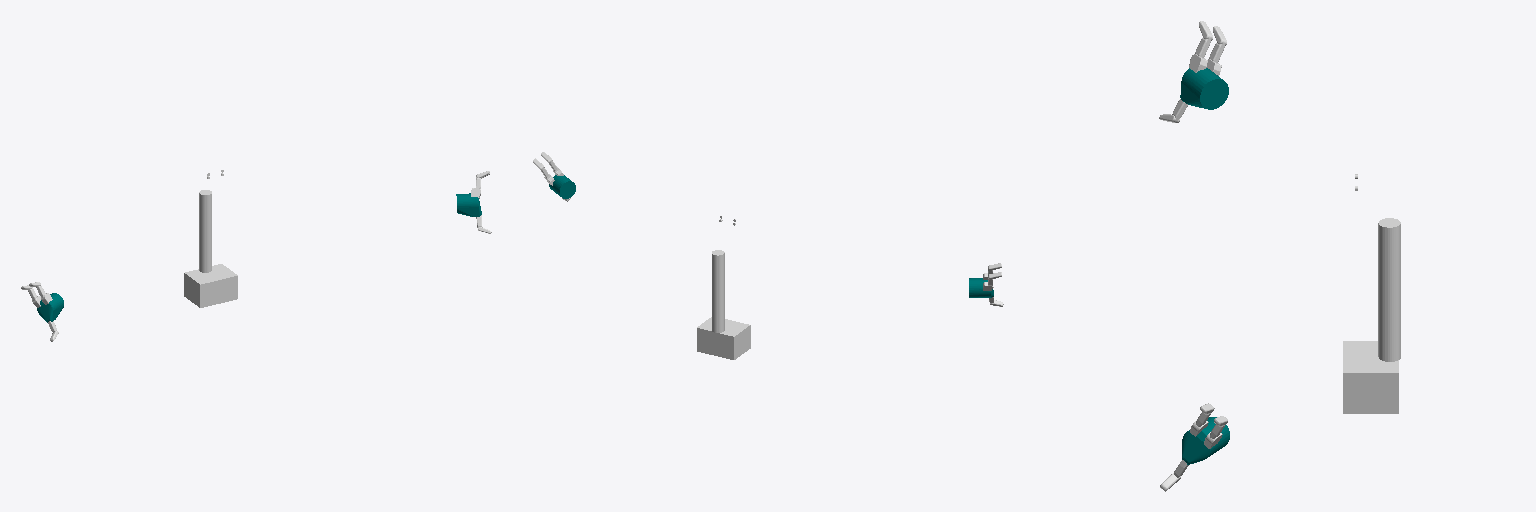
--- What the picture shows (computed from the rendered views, not written in the file) ---
The picture shows the robot from 3 angles, left to right: view 1: azimuth 30°, elevation 25°; view 2: azimuth 150°, elevation 25°; view 3: azimuth 270°, elevation 25°; orthographic projection.
Model apollo_robot with 62 links and 61 joints (37 revolute, 24 fixed), rooted at ORIG, posed joints at zero except 8 at the middle of their limits (L_SAA = -1.6, L_MF2 = 1.13, L_LF2 = 1.13, L_RF2 = 1.13, R_SAA = -1.6, R_MF2 = 1.13, +2 more).
Visible links, largest first — view 1: B_MOTORS, B_CERVICALS; view 2: B_MOTORS, B_CERVICALS; view 3: B_MOTORS, B_CERVICALS, R_ARM_PALM, L_ARM_PALM.
Link boxes in pixels (x1,y1,x2,y2): B_MOTORS: (184,264,237,307); B_CERVICALS: (199,190,211,272); B_MOTORS: (697,317,750,359); B_CERVICALS: (712,250,724,332); B_MOTORS: (1343,341,1398,413); B_CERVICALS: (1378,218,1400,361); R_ARM_PALM: (1180,68,1228,109); L_ARM_PALM: (1182,417,1229,464).
Bounding box of the posed robot: 2.49 × 0.6431 × 0.6563 m (x, y, z).
Meshes: 15 distinct files referenced, 18 mesh visuals loaded (4 binary STL); not drawn: 20 (reference not matched to a file when rendering).

robot.urdf — apollo_robot:
<?xml version="1.0" ?>
<!-- =================================================================================== -->
<!-- |    This document was autogenerated by xacro from ApolloRobot.urdf.xacro         | -->
<!-- |    EDITING THIS FILE BY HAND IS NOT RECOMMENDED                                 | -->
<!-- =================================================================================== -->
<robot name="apollo_robot" xmlns:body="http://playerstage.sourceforge.net/gazebo/xmlschema/#body" xmlns:controller="http://playerstage.sourceforge.net/gazebo/xmlschema/#controller" xmlns:geom="http://playerstage.sourceforge.net/gazebo/xmlschema/#geom" xmlns:interface="http://playerstage.sourceforge.net/gazebo/xmlschema/#interface" xmlns:joint="http://playerstage.sourceforge.net/gazebo/xmlschema/#slider" xmlns:sensor="http://playerstage.sourceforge.net/gazebo/xmlschema/#sensor" xmlns:xacro="http://ros.org/wiki/xacro">
  <material name="DarpaGrey">
    <color rgba="0.9 0.9 0.9 1.0"/>
  </material>
  <material name="DarpaBlue">
    <color rgba="0.0 0.5 0.5 1.0"/>
  </material>
  <link name="ORIG"/>
  <link name="BASE">
    <inertial>
      <origin rpy="0 0 0" xyz="0 0 0"/>
      <mass value="1.0"/>
      <inertia ixx="1.0" ixy="0.0" ixz="0.0" iyy="100.0" iyz="0.0" izz="1.0"/>
    </inertial>
    <visual>
      <material name="DarpaGrey"/>
      <origin rpy="0 0 3.14159265359" xyz="0 0.02 -1.305"/>
      <geometry>
        <mesh filename="package://apollo_robot_model/meshes/stand.stl"/>
      </geometry>
    </visual>
    <collision>
      <origin rpy="0 0 3.14159265359" xyz="0 0.02 -1.305"/>
      <geometry>
        <mesh filename="package://apollo_robot_model/meshes/collision/stand.stl"/>
      </geometry>
    </collision>
  </link>
  <gazebo reference="BASE">
    <material>
                PR2/Grey2
            </material>
    <turnGravityOff>
                true
            </turnGravityOff>
    <selfCollide>
                true
            </selfCollide>
  </gazebo>
  <joint name="fixedJoint" type="fixed">
    <parent link="ORIG"/>
    <child link="BASE"/>
    <origin rpy="0 0 3.14159265359" xyz="0 0.2 1.305"/>
  </joint>
  <!-- Adding Left and Right arm -->
  <joint name="L_BASE" type="fixed">
    <origin rpy="0 0 1.0471975512" xyz="0 0 0"/>
    <parent link="BASE"/>
    <child link="L_COLLARBONE"/>
  </joint>
  <link name="L_COLLARBONE">
    <inertial>
      <origin rpy="0 0 0" xyz="0 0 0"/>
      <mass value="1.0"/>
      <inertia ixx="0.01" ixy="0" ixz="0" iyy="0.01" iyz="0" izz="0.01"/>
    </inertial>
    <visual>
      <material name="DarpaGrey"/>
      <origin rpy="0 0 0" xyz="0 0.05 0"/>
      <geometry>
        <mesh filename="package://apollo_robot_model/meshes/lbr0.stl"/>
      </geometry>
    </visual>
    <collision>
      <origin rpy="0 0 0" xyz="0 0.05 0"/>
      <geometry>
        <mesh filename="package://apollo_robot_model/meshes/collision/lbr0_smpl.stl"/>
      </geometry>
    </collision>
  </link>
  <joint name="L_SFE" type="revolute">
    <origin rpy="-1.57079632679 -0.0 0" xyz="0 0.1605 0"/>
    <parent link="L_COLLARBONE"/>
    <child link="L_SHOULDER"/>
    <axis xyz="0 0 -1.0"/>
    <dynamics damping="25"/>
    <limit effort="200" lower="-2.96" upper="2.96" velocity="1.9634"/>
  </joint>
  <link name="L_SHOULDER">
    <inertial>
      <origin rpy="0 0 0" xyz="0 0 0"/>
      <mass value="5.9907"/>
      <inertia ixx="0.01" ixy="0" ixz="0" iyy="0.01" iyz="0" izz="0.01"/>
    </inertial>
    <visual>
      <material name="DarpaGrey"/>
      <origin rpy="0 0 1.57079632679" xyz="0 0 0"/>
      <geometry>
        <mesh filename="package://apollo_robot_model/meshes/lbr1.stl"/>
      </geometry>
    </visual>
    <collision>
      <origin rpy="0 0 1.57079632679" xyz="0 0 0"/>
      <geometry>
        <mesh filename="package://apollo_robot_model/meshes/collision/lbr1_smpl.stl"/>
      </geometry>
    </collision>
  </link>
  <joint name="L_SAA" type="revolute">
    <origin rpy="1.57079632679 3.14149632679 1.57079632679" xyz="0 -0.002 0.1915"/>
    <parent link="L_SHOULDER"/>
    <child link="L_UPPER_ARM_IN_SHOULDER"/>
    <axis xyz="0 0 -1.0"/>
    <dynamics damping="25"/>
    <limit effort="200" lower="-3.1" upper="-0.1" velocity="1.9634"/>
  </joint>
  <link name="L_UPPER_ARM_IN_SHOULDER">
    <inertial>
      <origin rpy="0 0 0" xyz="0 0 0"/>
      <mass value="5.734939"/>
      <inertia ixx="0.03" ixy="0" ixz="0" iyy="0.03" iyz="0" izz="0.03"/>
    </inertial>
    <visual>
      <material name="DarpaGrey"/>
      <origin rpy="0 0 1.57079632679" xyz="0 0 0"/>
      <geometry>
        <mesh filename="package://apollo_robot_model/meshes/lbr2.stl"/>
      </geometry>
    </visual>
    <collision>
      <origin rpy="0 0 1.57079632679" xyz="0 0 0"/>
      <geometry>
        <mesh filename="package://apollo_robot_model/meshes/collision/lbr2_smpl.stl"/>
      </geometry>
    </collision>
  </link>
  <joint name="L_HR" type="revolute">
    <origin rpy="-1.57079632679  -0.523596326795 1.57079632679" xyz="-0.2085 0 0"/>
    <parent link="L_UPPER_ARM_IN_SHOULDER"/>
    <child link="L_UPPER_ARM"/>
    <axis xyz="0 0 -1.0"/>
    <dynamics damping="25"/>
    <limit effort="100" lower="-2.96" upper="2.96" velocity="1.9634"/>
  </joint>
  <link name="L_UPPER_ARM">
    <inertial>
      <origin rpy="0 0 0" xyz="0 0 0"/>
      <mass value="4.214668"/>
      <inertia ixx="0.03" ixy="0" ixz="0" iyy="0.03" iyz="0" izz="0.03"/>
    </inertial>
    <visual>
      <material name="DarpaGrey"/>
      <origin rpy="0 0 1.57079632679" xyz="0 0 0"/>
      <geometry>
        <mesh filename="package://apollo_robot_model/meshes/lbr3.stl"/>
      </geometry>
    </visual>
    <collision>
      <origin rpy="0 0 1.57079632679" xyz="0 0 0"/>
      <geometry>
        <mesh filename="package://apollo_robot_model/meshes/collision/lbr3_smpl.stl"/>
      </geometry>
    </collision>
  </link>
  <joint name="L_EB" type="revolute">
    <origin rpy="-1.57079632679 -1.57079632679 1.57079632679" xyz="0 0.002 0.1915"/>
    <parent link="L_UPPER_ARM"/>
    <child link="L_FOREARM"/>
    <axis xyz="0 0 -1.0"/>
    <dynamics damping="25"/>
    <limit effort="100" lower="-2.09" upper="2.09" velocity="1.9634"/>
  </joint>
  <link name="L_FOREARM">
    <inertial>
      <origin rpy="0 0 0" xyz="0 0 0"/>
      <mass value="3.669819"/>
      <inertia ixx="0.03" ixy="0" ixz="0" iyy="0.03" iyz="0" izz="0.03"/>
    </inertial>
    <visual>
      <material name="DarpaGrey"/>
      <origin rpy="0 0 1.57079632679" xyz="0 0 0"/>
      <geometry>
        <mesh filename="package://apollo_robot_model/meshes/lbr4.stl"/>
      </geometry>
    </visual>
    <collision>
      <origin rpy="0 0 1.57079632679" xyz="0 0 0"/>
      <geometry>
        <mesh filename="package://apollo_robot_model/meshes/collision/lbr4_smpl.stl"/>
      </geometry>
    </collision>
  </link>
  <joint name="L_WR" type="revolute">
    <origin rpy="1.57079632679 3.14149632679 1.57079632679" xyz="0.2085 0 0"/>
    <parent link="L_FOREARM"/>
    <child link="L_UPPER_WRIST_YAW"/>
    <axis xyz="0 0 -1.0"/>
    <dynamics damping="25"/>
    <limit effort="100" lower="-3.1" upper="1.35" velocity="3.1415926"/>
  </joint>
  <link name="L_UPPER_WRIST_YAW">
    <inertial>
      <origin rpy="0 0 0" xyz="0 0 0"/>
      <mass value="2.313272"/>
      <inertia ixx="0.03" ixy="0" ixz="0" iyy="0.03" iyz="0" izz="0.03"/>
    </inertial>
    <visual>
      <material name="DarpaGrey"/>
      <origin rpy="0 0 1.57079632679" xyz="0 0 0"/>
      <geometry>
        <mesh filename="package://apollo_robot_model/meshes/lbr5.stl"/>
      </geometry>
    </visual>
    <collision>
      <origin rpy="0 0 1.57079632679" xyz="0 0 0"/>
      <geometry>
        <mesh filename="package://apollo_robot_model/meshes/collision/lbr5_smpl.stl"/>
      </geometry>
    </collision>
  </link>
  <joint name="L_WFE" type="revolute">
    <origin rpy="1.5708 -0.0 1.57079632679" xyz="-0.046 0 0.1815"/>
    <parent link="L_UPPER_WRIST_YAW"/>
    <child link="L_UPPER_WRIST_PITCH"/>
    <axis xyz="0 0 -1.0"/>
    <dynamics damping="25"/>
    <limit effort="30" lower="-2.09" upper="2.09" velocity="1.9634"/>
  </joint>
  <link name="L_UPPER_WRIST_PITCH">
    <inertial>
      <origin rpy="0 0 0" xyz="0 0 0"/>
      <mass value="2.057856"/>
      <inertia ixx="0.01" ixy="0" ixz="0" iyy="0.01" iyz="0" izz="0.01"/>
    </inertial>
    <visual>
      <material name="DarpaGrey"/>
      <origin rpy="0 0 0" xyz="0 0 0"/>
      <geometry>
        <mesh filename="package://apollo_robot_model/meshes/lbr6.stl"/>
      </geometry>
    </visual>
    <collision>
      <origin rpy="0 0 0" xyz="0 0 0"/>
      <geometry>
        <mesh filename="package://apollo_robot_model/meshes/collision/lbr6_smpl.stl"/>
      </geometry>
    </collision>
  </link>
  <joint name="L_WAA" type="revolute">
    <origin rpy="-1.57079632679 -1.57079632679 0" xyz="0 0.057 0.0455"/>
    <parent link="L_UPPER_WRIST_PITCH"/>
    <child link="L_LOWER_WRIST"/>
    <axis xyz="0 0 -1.0"/>
    <dynamics damping="25"/>
    <limit effort="30" lower="-2.96" upper="2.96" velocity="1.9634"/>
  </joint>
  <link name="L_LOWER_WRIST">
    <inertial>
      <origin rpy="0 0 0" xyz="0 0 0"/>
      <mass value="1.120198"/>
      <inertia ixx="0.01" ixy="0" ixz="0" iyy="0.01" iyz="0" izz="0.01"/>
    </inertial>
    <visual>
      <material name="DarpaGrey"/>
      <origin rpy="0 0 0" xyz="0 0 0"/>
      <geometry>
        <mesh filename="package://apollo_robot_model/meshes/lbr7.stl"/>
      </geometry>
    </visual>
    <collision>
      <origin rpy="0 0 0" xyz="0 0 0"/>
      <geometry>
        <mesh filename="package://apollo_robot_model/meshes/collision/lbr7_smpl.stl"/>
      </geometry>
    </collision>
  </link>
  <joint name="L_Arm_PalmBlueComponentJoint" type="fixed">
    <parent link="L_LOWER_WRIST"/>
    <child link="L_ARM_PALM"/>
    <origin rpy="0 0 3.14159265359" xyz="0 0 0.03"/>
  </joint>
  <link name="L_ARM_PALM">
    <inertial>
      <origin xyz="0 0 0"/>
      <mass value="0.00000001"/>
      <inertia ixx="0.00000001" ixy="0.00000001" ixz="-0.00000001" iyy="0.00000001" iyz="-0.00000001" izz="0.00000001"/>
    </inertial>
    <visual>
      <material name="DarpaGrey"/>
      <material name="DarpaBlue"/>
      <origin rpy="1.57079632679 0 0" xyz="0 0 0"/>
      <geometry>
        <mesh filename="package://apollo_robot_model/meshes/wamLowerWristFTPalmLink7.stl"/>
      </geometry>
    </visual>
    <collision>
      <origin rpy="1.57079632679 0 0" xyz="0 0 0"/>
      <geometry>
        <mesh filename="package://apollo_robot_model/meshes/collision/wamLowerWristFTPalmLink7_smpl.stl"/>
      </geometry>
    </collision>
  </link>
  <link name="L_PALM"/>
  <link name="L_KUKA_TOOL"/>
  <link name="L_FORCE_TORQUE_SENSOR"/>
  <joint name="L_Arm_ForceTorqueJoint" type="fixed">
    <parent link="L_ARM_PALM"/>
    <child link="L_FORCE_TORQUE_SENSOR"/>
    <origin rpy="0 0 1.57079632679" xyz="0 0 0.0131834"/>
    <!-- 0.0131834 = .0059834 from wrist to f-t + .0072 from ft to sensor origin-->
  </joint>
  <joint name="L_Arm_PalmJoint" type="fixed">
    <parent link="L_ARM_PALM"/>
    <child link="L_PALM"/>
    <origin rpy="0 0 3.14159265359" xyz="0 0 0.1033"/>
  </joint>
  <joint name="L_Arm_ToolJoint" type="fixed">
    <parent link="L_ARM_PALM"/>
    <child link="L_KUKA_TOOL"/>
    <origin rpy="0 0 1.57079632679" xyz="0 0 0"/>
  </joint>
  <gazebo reference="L_0_link">
    <material value="PR2/Red"/>
    <turnGravityOff>false</turnGravityOff>
  </gazebo>
  <gazebo reference="L_1_link">
    <material value="PR2/Blue"/>
    <turnGravityOff>false</turnGravityOff>
  </gazebo>
  <gazebo reference="L_2_link">
    <material value="PR2/Red"/>
    <turnGravityOff>false</turnGravityOff>
  </gazebo>
  <gazebo reference="L_3_link">
    <material value="PR2/Blue"/>
    <turnGravityOff>false</turnGravityOff>
  </gazebo>
  <gazebo reference="L_4_link">
    <material value="PR2/Red"/>
    <turnGravityOff>false</turnGravityOff>
  </gazebo>
  <gazebo reference="L_5_link">
    <material value="PR2/Blue"/>
    <turnGravityOff>false</turnGravityOff>
  </gazebo>
  <gazebo reference="L_6_link">
    <material value="PR2/Red"/>
    <turnGravityOff>false</turnGravityOff>
  </gazebo>
  <gazebo reference="L_7_link">
    <material value="PR2/Blue"/>
    <turnGravityOff>false</turnGravityOff>
  </gazebo>
  <transmission name="L_1_trans" type="pr2_mechanism_model/SimpleTransmission">
    <actuator name="L_1_motor"/>
    <joint name="L_1_joint"/>
    <mechanicalReduction>1</mechanicalReduction>
  </transmission>
  <transmission name="L_2_trans" type="pr2_mechanism_model/SimpleTransmission">
    <actuator name="L_2_motor"/>
    <joint name="L_2_joint"/>
    <mechanicalReduction>1</mechanicalReduction>
  </transmission>
  <transmission name="L_3_trans" type="pr2_mechanism_model/SimpleTransmission">
    <actuator name="L_3_motor"/>
    <joint name="L_3_joint"/>
    <mechanicalReduction>1</mechanicalReduction>
  </transmission>
  <transmission name="L_4_trans" type="pr2_mechanism_model/SimpleTransmission">
    <actuator name="L_4_motor"/>
    <joint name="L_4_joint"/>
    <mechanicalReduction>1</mechanicalReduction>
  </transmission>
  <transmission name="L_5_trans" type="pr2_mechanism_model/SimpleTransmission">
    <actuator name="L_5_motor"/>
    <joint name="L_5_joint"/>
    <mechanicalReduction>1</mechanicalReduction>
  </transmission>
  <transmission name="L_6_trans" type="pr2_mechanism_model/SimpleTransmission">
    <actuator name="L_6_motor"/>
    <joint name="L_6_joint"/>
    <mechanicalReduction>1</mechanicalReduction>
  </transmission>
  <transmission name="L_7_trans" type="pr2_mechanism_model/SimpleTransmission">
    <actuator name="L_7_motor"/>
    <joint name="L_7_joint"/>
    <mechanicalReduction>1</mechanicalReduction>
  </transmission>
  <link name="L_HAND_M_FINGER_KNUCKLE_2">
    <visual>
      <material name="DarpaGrey"/>
      <origin rpy="3.14159265359 1.57079632679 0" xyz="0 0 0"/>
      <geometry>
        <mesh filename="package://apollo_robot_model/meshes/secondFingerLink.stl"/>
      </geometry>
    </visual>
    <inertial>
      <origin xyz=".031720 .001070 -.000586"/>
      <mass value="0.057957"/>
      <inertia ixx="0.00000461" ixy="0.00000003" ixz="0.00000164" iyy="0.00003590" iyz="0.00000004" izz="0.00003682"/>
    </inertial>
    <collision>
      <origin rpy="3.14159265359 1.57079632679 0" xyz="0 0 0"/>
      <geometry>
        <mesh filename="package://apollo_robot_model/meshes/collision/secondFingerLink_smpl.stl"/>
      </geometry>
      <mu1 value="50000.0"/>
      <mu2 value="50000.0"/>
      <kp value="1000000.0"/>
      <kd value="1.0"/>
    </collision>
  </link>
  <gazebo reference="L_HAND_M_FINGER_KNUCKLE_2">
    <material>
                PR2/Grey2
            </material>
    <turnGravityOff>
                true
            </turnGravityOff>
    <selfCollide>
                true
            </selfCollide>
  </gazebo>
  <transmission name="DarmSim_LArm_BHand_FingerMKnuckleTwo_trans" type="pr2_mechanism_model/SimpleTransmission">
    <actuator name="DarmSim_LArm_BHand_FingerMKnuckleTwo_motor"/>
    <joint name="L_Arm_M_Finger_KnuckleTwoJoint"/>
    <mechanicalReduction>1</mechanicalReduction>
    <motorTorqueConstant>1</motorTorqueConstant>
    <pulsesPerRevolution>90000</pulsesPerRevolution>
  </transmission>
  <link name="L_HAND_M_FINGER_KNUCKLE_3">
    <visual>
      <material name="DarpaGrey"/>
      <origin rpy="0 1.57079632679 0" xyz="0 0 0"/>
      <geometry>
        <mesh filename="package://apollo_robot_model/meshes/thirdFingerLink.stl"/>
      </geometry>
    </visual>
    <inertial>
      <origin xyz="0.01970974 0.00182016 0.00020041"/>
      <mass value="0.03421781"/>
      <inertia ixx="0.00000287" ixy="0.00000091" ixz="-0.00000007" iyy="0.00001329" iyz="-0.00000002" izz="0.00001214"/>
    </inertial>
    <collision>
      <origin rpy="0 1.57079632679 0" xyz="0 0 0"/>
      <geometry>
        <mesh filename="package://apollo_robot_model/meshes/collision/thirdFingerLink_smpl.stl"/>
      </geometry>
      <mu1 value="50000.0"/>
      <mu2 value="50000.0"/>
      <kp value="1000000.0"/>
      <kd value="1.0"/>
    </collision>
  </link>
  <gazebo reference="L_HAND_M_FINGER_KNUCKLE_3">
    <material>
                PR2/Grey2
            </material>
    <turnGravityOff>
                true
            </turnGravityOff>
    <selfCollide>
                true
            </selfCollide>
  </gazebo>
  <transmission name="DarmSim_LArm_BHand_FingerMKnuckleThree_trans" type="pr2_mechanism_model/SimpleTransmission">
    <actuator name="DarmSim_LArm_BHand_FingerMKnuckleThree_motor"/>
    <joint name="L_Arm_M_Finger_KnuckleThreeJoint"/>
    <mechanicalReduction>1</mechanicalReduction>
    <motorTorqueConstant>1</motorTorqueConstant>
    <pulsesPerRevolution>90000</pulsesPerRevolution>
  </transmission>
  <link name="L_HAND_M_FINGER_TIP"/>
  <joint name="L_MF" type="revolute">
    <parent link="L_ARM_PALM"/>
    <child link="L_HAND_M_FINGER_KNUCKLE_2"/>
    <origin rpy="-1.57079632679 -0.0429350996 -1.57079632679" xyz="0 -0.05 0.09938"/>
    <axis xyz="0 0 -1"/>
    <limit effort="1" lower="0" upper="2.44" velocity="3.27"/>
    <dynamics damping="0.005" friction="100.0"/>
  </joint>
  <joint name="L_MF2" type="revolute">
    <parent link="L_HAND_M_FINGER_KNUCKLE_2"/>
    <child link="L_HAND_M_FINGER_KNUCKLE_3"/>
    <origin rpy="0 0 0" xyz="0.07 0 0"/>
    <!--<origin xyz="0.07 0 0" rpy="0 0 -0.733038286"/>-->
    <axis xyz="0 0 -1"/>
    <limit effort="1" lower="0.698131700798" upper="1.57079632679" velocity="3.27"/>
    <dynamics damping="0.005" friction="100.0"/>
    <!--<mimic joint="${side}_${number}F" multiplier="1" offset="0"/>-->
  </joint>
  <joint name="L_MF3" type="fixed">
    <parent link="L_HAND_M_FINGER_KNUCKLE_3"/>
    <child link="L_HAND_M_FINGER_TIP"/>
    <origin rpy="0 0 0" xyz="0.056 0 0"/>
  </joint>
  <link name="L_HAND_L_FINGER_KNUCKLE_1">
    <visual>
      <material name="DarpaGrey"/>
      <origin rpy="1.57079632679 0 -1.57079632679" xyz="0 0 0"/>
      <geometry>
        <mesh filename="package://apollo_robot_model/meshes/firstFingerLink.stl"/>
      </geometry>
      <mu1 value="50000.0"/>
      <mu2 value="50000.0"/>
      <kp value="1000000.0"/>
      <kd value="1.0"/>
    </visual>
    <inertial>
      <origin xyz="0.03201666 -0.00086502 0.00890075"/>
      <mass value="0.16252678"/>
      <inertia ixx="0.00002567" ixy="-0.00000146" ixz="0.00001128" iyy="0.00008818" iyz="-0.00000094" izz="0.00007827"/>
    </inertial>
    <collision>
      <origin rpy="1.57079632679 0 -1.57079632679" xyz="0 0 0"/>
      <geometry>
        <mesh filename="package://apollo_robot_model/meshes/collision/firstFingerLink_smpl.stl"/>
      </geometry>
    </collision>
  </link>
  <gazebo reference="L_HAND_L_FINGER_KNUCKLE_1">
    <material>
                PR2/Grey2
            </material>
    <turnGravityOff>
                true
            </turnGravityOff>
    <selfCollide>
                true
            </selfCollide>
  </gazebo>
  <transmission name="DarmSim_LArm_BHand_FingerOneKnuckleOne_trans" type="pr2_mechanism_model/SimpleTransmission">
    <actuator name="DarmSim_LArm_BHand_FingerOneKnuckleOne_motor"/>
    <joint name="L_Arm_FingerOne_KnuckleOneJoint"/>
    <mechanicalReduction>1</mechanicalReduction>
    <motorTorqueConstant>1</motorTorqueConstant>
    <pulsesPerRevolution>90000</pulsesPerRevolution>
  </transmission>
  <link name="L_HAND_L_FINGER_KNUCKLE_2">
    <visual>
      <material name="DarpaGrey"/>
      <origin rpy="3.14159265359 1.57079632679 0" xyz="0 0 0"/>
      <geometry>
        <mesh filename="package://apollo_robot_model/meshes/secondFingerLink.stl"/>
      </geometry>
    </visual>
    <inertial>
      <origin xyz=".031720 .001070 -.000586"/>
      <mass value="0.057957"/>
      <inertia ixx="0.00000461" ixy="0.00000003" ixz="0.00000164" iyy="0.00003590" iyz="0.00000004" izz="0.00003682"/>
    </inertial>
    <collision>
      <origin rpy="3.14159265359 1.57079632679 0" xyz="0 0 0"/>
      <geometry>
        <mesh filename="package://apollo_robot_model/meshes/collision/secondFingerLink_smpl.stl"/>
      </geometry>
      <mu1 value="50000.0"/>
      <mu2 value="50000.0"/>
      <kp value="1000000.0"/>
      <kd value="1.0"/>
    </collision>
  </link>
  <gazebo reference="L_HAND_L_FINGER_KNUCKLE_2">
    <material>
                PR2/Grey2
            </material>
    <turnGravityOff>
                true
            </turnGravityOff>
    <selfCollide>
                true
            </selfCollide>
  </gazebo>
  <transmission name="DarmSim_LArm_BHand_FingerLKnuckleTwo_trans" type="pr2_mechanism_model/SimpleTransmission">
    <actuator name="DarmSim_LArm_BHand_FingerLKnuckleTwo_motor"/>
    <joint name="L_Arm_L_Finger_KnuckleTwoJoint"/>
    <mechanicalReduction>1</mechanicalReduction>
    <motorTorqueConstant>1</motorTorqueConstant>
    <pulsesPerRevolution>90000</pulsesPerRevolution>
  </transmission>
  <link name="L_HAND_L_FINGER_KNUCKLE_3">
    <visual>
      <material name="DarpaGrey"/>
      <origin rpy="0 1.57079632679 0" xyz="0 0 0"/>
      <geometry>
        <mesh filename="package://apollo_robot_model/meshes/thirdFingerLink.stl"/>
      </geometry>
    </visual>
    <inertial>
      <origin xyz="0.01970974 0.00182016 0.00020041"/>
      <mass value="0.03421781"/>
      <inertia ixx="0.00000287" ixy="0.00000091" ixz="-0.00000007" iyy="0.00001329" iyz="-0.00000002" izz="0.00001214"/>
    </inertial>
    <collision>
      <origin rpy="0 1.57079632679 0" xyz="0 0 0"/>
      <geometry>
        <mesh filename="package://apollo_robot_model/meshes/collision/thirdFingerLink_smpl.stl"/>
      </geometry>
      <mu1 value="50000.0"/>
      <mu2 value="50000.0"/>
      <kp value="1000000.0"/>
      <kd value="1.0"/>
    </collision>
  </link>
  <gazebo reference="L_HAND_L_FINGER_KNUCKLE_3">
    <material>
                PR2/Grey2
            </material>
    <turnGravityOff>
                true
            </turnGravityOff>
    <selfCollide>
                true
            </selfCollide>
  </gazebo>
  <transmission name="DarmSim_LArm_BHand_FingerLKnuckleThree_trans" type="pr2_mechanism_model/SimpleTransmission">
    <actuator name="DarmSim_LArm_BHand_FingerLKnuckleThree_motor"/>
    <joint name="L_Arm_L_Finger_KnuckleThreeJoint"/>
    <mechanicalReduction>1</mechanicalReduction>
    <motorTorqueConstant>1</motorTorqueConstant>
    <pulsesPerRevolution>90000</pulsesPerRevolution>
  </transmission>
  <link name="L_HAND_L_FINGER_TIP"/>
  <joint name="L_LF" type="revolute">
    <parent link="L_HAND_L_FINGER_KNUCKLE_1"/>
    <child link="L_HAND_L_FINGER_KNUCKLE_2"/>
    <origin rpy="-1.57079632679 -0.0429350996 0" xyz=".05 0 0.02140"/>
    <axis xyz="0 0 -1"/>
    <limit effort="1" lower="0" upper="2.44" velocity="3.27"/>
    <dynamics damping="0.005" friction="100.0"/>
  </joint>
  <joint name="L_LF2" type="revolute">
    <parent link="L_HAND_L_FINGER_KNUCKLE_2"/>
    <child link="L_HAND_L_FINGER_KNUCKLE_3"/>
    <origin rpy="0 0 0" xyz="0.07 0 0"/>
    <!--<origin xyz="0.07 0 0" rpy="0 0 -0.733038286"/>-->
    <axis xyz="0 0 -1"/>
    <limit effort="1" lower="0.698131700798" upper="1.57079632679" velocity="3.27"/>
    <dynamics damping="0.005" friction="100.0"/>
    <!--<mimic joint="${side}_${number}F" multiplier="1" offset="0"/>-->
  </joint>
  <joint name="L_LF3" type="fixed">
    <parent link="L_HAND_L_FINGER_KNUCKLE_3"/>
    <child link="L_HAND_L_FINGER_TIP"/>
    <origin rpy="0 0 0" xyz="0.056 0 0"/>
  </joint>
  <link name="L_HAND_R_FINGER_KNUCKLE_1">
    <visual>
      <material name="DarpaGrey"/>
      <origin rpy="1.57079632679 0 -1.57079632679" xyz="0 0 0"/>
      <geometry>
        <mesh filename="package://apollo_robot_model/meshes/firstFingerLink.stl"/>
      </geometry>
    </visual>
    <inertial>
      <origin xyz="0.03201666 -0.00086502 0.00890075"/>
      <mass value="0.16252678"/>
      <inertia ixx="0.00002567" ixy="-0.00000146" ixz="0.00001128" iyy="0.00008818" iyz="-0.00000094" izz="0.00007827"/>
    </inertial>
    <collision>
      <origin rpy="1.57079632679 0 -1.57079632679" xyz="0 0 0"/>
      <geometry>
        <mesh filename="package://apollo_robot_model/meshes/collision/firstFingerLink_smpl.stl"/>
      </geometry>
    </collision>
  </link>
  <gazebo reference="L_HAND_R_FINGER_KNUCKLE_1">
    <material>
                PR2/Grey2
            </material>
    <turnGravityOff>
                true
            </turnGravityOff>
    <selfCollide>
                true
            </selfCollide>
  </gazebo>
  <transmission name="DarmSim_LArm_BHand_FingerTwoKnuckleOne_trans" type="pr2_mechanism_model/SimpleTransmission">
    <actuator name="DarmSim_LArm_BHand_FingerTwoKnuckleOne_motor"/>
    <joint name="L_Arm_FingerTwo_KnuckleOneJoint"/>
    <mechanicalReduction>1</mechanicalReduction>
    <motorTorqueConstant>1</motorTorqueConstant>
    <pulsesPerRevolution>90000</pulsesPerRevolution>
  </transmission>
  <link name="L_HAND_R_FINGER_KNUCKLE_2">
    <visual>
      <material name="DarpaGrey"/>
      <origin rpy="3.14159265359 1.57079632679 0" xyz="0 0 0"/>
      <geometry>
        <mesh filename="package://apollo_robot_model/meshes/secondFingerLink.stl"/>
      </geometry>
    </visual>
    <inertial>
      <origin xyz=".031720 .001070 -.000586"/>
      <mass value="0.057957"/>
      <inertia ixx="0.00000461" ixy="0.00000003" ixz="0.00000164" iyy="0.00003590" iyz="0.00000004" izz="0.00003682"/>
    </inertial>
    <collision>
      <origin rpy="3.14159265359 1.57079632679 0" xyz="0 0 0"/>
      <geometry>
        <mesh filename="package://apollo_robot_model/meshes/collision/secondFingerLink_smpl.stl"/>
      </geometry>
      <mu1 value="50000.0"/>
      <mu2 value="50000.0"/>
      <kp value="1000000.0"/>
      <kd value="1.0"/>
    </collision>
  </link>
  <gazebo reference="L_HAND_R_FINGER_KNUCKLE_2">
    <material>
                PR2/Grey2
            </material>
    <turnGravityOff>
                true
            </turnGravityOff>
    <selfCollide>
                true
            </selfCollide>
  </gazebo>
  <transmission name="DarmSim_LArm_BHand_FingerRKnuckleTwo_trans" type="pr2_mechanism_model/SimpleTransmission">
    <actuator name="DarmSim_LArm_BHand_FingerRKnuckleTwo_motor"/>
    <joint name="L_Arm_R_Finger_KnuckleTwoJoint"/>
    <mechanicalReduction>1</mechanicalReduction>
    <motorTorqueConstant>1</motorTorqueConstant>
    <pulsesPerRevolution>90000</pulsesPerRevolution>
  </transmission>
  <link name="L_HAND_R_FINGER_KNUCKLE_3">
    <visual>
      <material name="DarpaGrey"/>
      <origin rpy="0 1.57079632679 0" xyz="0 0 0"/>
      <geometry>
        <mesh filename="package://apollo_robot_model/meshes/thirdFingerLink.stl"/>
      </geometry>
    </visual>
    <inertial>
      <origin xyz="0.01970974 0.00182016 0.00020041"/>
      <mass value="0.03421781"/>
      <inertia ixx="0.00000287" ixy="0.00000091" ixz="-0.00000007" iyy="0.00001329" iyz="-0.00000002" izz="0.00001214"/>
    </inertial>
    <collision>
      <origin rpy="0 1.57079632679 0" xyz="0 0 0"/>
      <geometry>
        <mesh filename="package://apollo_robot_model/meshes/collision/thirdFingerLink_smpl.stl"/>
      </geometry>
      <mu1 value="50000.0"/>
      <mu2 value="50000.0"/>
      <kp value="1000000.0"/>
      <kd value="1.0"/>
    </collision>
  </link>
  <gazebo reference="L_HAND_R_FINGER_KNUCKLE_3">
    <material>
                PR2/Grey2
            </material>
    <turnGravityOff>
                true
            </turnGravityOff>
    <selfCollide>
                true
            </selfCollide>
  </gazebo>
  <transmission name="DarmSim_LArm_BHand_FingerRKnuckleThree_trans" type="pr2_mechanism_model/SimpleTransmission">
    <actuator name="DarmSim_LArm_BHand_FingerRKnuckleThree_motor"/>
    <joint name="L_Arm_R_Finger_KnuckleThreeJoint"/>
    <mechanicalReduction>1</mechanicalReduction>
    <motorTorqueConstant>1</motorTorqueConstant>
    <pulsesPerRevolution>90000</pulsesPerRevolution>
  </transmission>
  <link name="L_HAND_R_FINGER_TIP"/>
  <joint name="L_RF" type="revolute">
    <parent link="L_HAND_R_FINGER_KNUCKLE_1"/>
    <child link="L_HAND_R_FINGER_KNUCKLE_2"/>
    <origin rpy="-1.57079632679 -0.0429350996 0" xyz=".05 0 0.02140"/>
    <axis xyz="0 0 -1"/>
    <limit effort="1" lower="0" upper="2.44" velocity="3.27"/>
    <dynamics damping="0.005" friction="100.0"/>
  </joint>
  <joint name="L_RF2" type="revolute">
    <parent link="L_HAND_R_FINGER_KNUCKLE_2"/>
    <child link="L_HAND_R_FINGER_KNUCKLE_3"/>
    <origin rpy="0 0 0" xyz="0.07 0 0"/>
    <!--<origin xyz="0.07 0 0" rpy="0 0 -0.733038286"/>-->
    <axis xyz="0 0 -1"/>
    <limit effort="1" lower="0.698131700798" upper="1.57079632679" velocity="3.27"/>
    <dynamics damping="0.005" friction="100.0"/>
    <!--<mimic joint="${side}_${number}F" multiplier="1" offset="0"/>-->
  </joint>
  <joint name="L_RF3" type="fixed">
    <parent link="L_HAND_R_FINGER_KNUCKLE_3"/>
    <child link="L_HAND_R_FINGER_TIP"/>
    <origin rpy="0 0 0" xyz="0.056 0 0"/>
  </joint>
  <joint name="L_FR" type="revolute">
    <parent link="L_ARM_PALM"/>
    <child link="L_HAND_L_FINGER_KNUCKLE_1"/>
    <origin rpy="0 0 1.57079632679" xyz=".02497 0 0.07798"/>
    <axis xyz="0 0 -1"/>
    <limit effort="1" lower="0" upper="3.14159265359" velocity="3.27"/>
    <dynamics damping="0.005" friction="100.0"/>
  </joint>
  <joint name="L_FR2" type="revolute">
    <parent link="L_ARM_PALM"/>
    <child link="L_HAND_R_FINGER_KNUCKLE_1"/>
    <origin rpy="0 0 1.57079632679" xyz="-.02497 0 0.07798"/>
    <axis xyz="0 0 1"/>
    <limit effort="1" lower="0" upper="3.14159265359" velocity="3.27"/>
    <dynamics damping="0.005" friction="100.0"/>
    <mimic joint="L_FR" multiplier="1" offset="0"/>
  </joint>
  <joint name="R_BASE" type="fixed">
    <origin rpy="0 3.14159265359 -1.0471975512" xyz="0 0 0"/>
    <parent link="BASE"/>
    <child link="R_COLLARBONE"/>
  </joint>
  <link name="R_COLLARBONE">
    <inertial>
      <origin rpy="0 0 0" xyz="0 0 0"/>
      <mass value="1.0"/>
      <inertia ixx="0.01" ixy="0" ixz="0" iyy="0.01" iyz="0" izz="0.01"/>
    </inertial>
    <visual>
      <material name="DarpaGrey"/>
      <origin rpy="0 0 0" xyz="0 0.05 0"/>
      <geometry>
        <mesh filename="package://apollo_robot_model/meshes/lbr0.stl"/>
      </geometry>
    </visual>
    <collision>
      <origin rpy="0 0 0" xyz="0 0.05 0"/>
      <geometry>
        <mesh filename="package://apollo_robot_model/meshes/collision/lbr0_smpl.stl"/>
      </geometry>
    </collision>
  </link>
  <joint name="R_SFE" type="revolute">
    <origin rpy="-1.57079632679 0.0 0" xyz="0 0.1605 0"/>
    <parent link="R_COLLARBONE"/>
    <child link="R_SHOULDER"/>
    <axis xyz="0 0 1.0"/>
    <dynamics damping="25"/>
    <limit effort="200" lower="-2.96" upper="2.96" velocity="1.9634"/>
  </joint>
  <link name="R_SHOULDER">
    <inertial>
      <origin rpy="0 0 0" xyz="0 0 0"/>
      <mass value="5.9907"/>
      <inertia ixx="0.01" ixy="0" ixz="0" iyy="0.01" iyz="0" izz="0.01"/>
    </inertial>
    <visual>
      <material name="DarpaGrey"/>
      <origin rpy="0 0 1.57079632679" xyz="0 0 0"/>
      <geometry>
        <mesh filename="package://apollo_robot_model/meshes/lbr1.stl"/>
      </geometry>
    </visual>
    <collision>
      <origin rpy="0 0 1.57079632679" xyz="0 0 0"/>
      <geometry>
        <mesh filename="package://apollo_robot_model/meshes/collision/lbr1_smpl.stl"/>
      </geometry>
    </collision>
  </link>
  <joint name="R_SAA" type="revolute">
    <origin rpy="1.57079632679 9.63267948966e-05 1.57079632679" xyz="0 -0.002 0.1915"/>
    <parent link="R_SHOULDER"/>
    <child link="R_UPPER_ARM_IN_SHOULDER"/>
    <axis xyz="0 0 1.0"/>
    <dynamics damping="25"/>
    <limit effort="200" lower="-3.1" upper="-0.1" velocity="1.9634"/>
  </joint>
  <link name="R_UPPER_ARM_IN_SHOULDER">
    <inertial>
      <origin rpy="0 0 0" xyz="0 0 0"/>
      <mass value="5.734939"/>
      <inertia ixx="0.03" ixy="0" ixz="0" iyy="0.03" iyz="0" izz="0.03"/>
    </inertial>
    <visual>
      <material name="DarpaGrey"/>
      <origin rpy="0 0 1.57079632679" xyz="0 0 0"/>
      <geometry>
        <mesh filename="package://apollo_robot_model/meshes/lbr2.stl"/>
      </geometry>
    </visual>
    <collision>
      <origin rpy="0 0 1.57079632679" xyz="0 0 0"/>
      <geometry>
        <mesh filename="package://apollo_robot_model/meshes/collision/lbr2_smpl.stl"/>
      </geometry>
    </collision>
  </link>
  <joint name="R_HR" type="revolute">
    <origin rpy="-1.57079632679  -2.61799632679 1.57079632679" xyz="-0.2085 0 0"/>
    <parent link="R_UPPER_ARM_IN_SHOULDER"/>
    <child link="R_UPPER_ARM"/>
    <axis xyz="0 0 1.0"/>
    <dynamics damping="25"/>
    <limit effort="100" lower="-2.96" upper="2.96" velocity="1.9634"/>
  </joint>
  <link name="R_UPPER_ARM">
    <inertial>
      <origin rpy="0 0 0" xyz="0 0 0"/>
      <mass value="4.214668"/>
      <inertia ixx="0.03" ixy="0" ixz="0" iyy="0.03" iyz="0" izz="0.03"/>
    </inertial>
    <visual>
      <material name="DarpaGrey"/>
      <origin rpy="0 0 1.57079632679" xyz="0 0 0"/>
      <geometry>
        <mesh filename="package://apollo_robot_model/meshes/lbr3.stl"/>
      </geometry>
    </visual>
    <collision>
      <origin rpy="0 0 1.57079632679" xyz="0 0 0"/>
      <geometry>
        <mesh filename="package://apollo_robot_model/meshes/collision/lbr3_smpl.stl"/>
      </geometry>
    </collision>
  </link>
  <joint name="R_EB" type="revolute">
    <origin rpy="-1.57079632679 -1.57079632679 1.57079632679" xyz="0 0.002 0.1915"/>
    <parent link="R_UPPER_ARM"/>
    <child link="R_FOREARM"/>
    <axis xyz="0 0 1.0"/>
    <dynamics damping="25"/>
    <limit effort="100" lower="-2.09" upper="2.09" velocity="1.9634"/>
  </joint>
  <link name="R_FOREARM">
    <inertial>
      <origin rpy="0 0 0" xyz="0 0 0"/>
      <mass value="3.669819"/>
      <inertia ixx="0.03" ixy="0" ixz="0" iyy="0.03" iyz="0" izz="0.03"/>
    </inertial>
    <visual>
      <material name="DarpaGrey"/>
      <origin rpy="0 0 1.57079632679" xyz="0 0 0"/>
      <geometry>
        <mesh filename="package://apollo_robot_model/meshes/lbr4.stl"/>
      </geometry>
    </visual>
    <collision>
      <origin rpy="0 0 1.57079632679" xyz="0 0 0"/>
      <geometry>
        <mesh filename="package://apollo_robot_model/meshes/collision/lbr4_smpl.stl"/>
      </geometry>
    </collision>
  </link>
  <joint name="R_WR" type="revolute">
    <origin rpy="1.57079632679 9.63267948966e-05 1.57079632679" xyz="0.2085 0 0"/>
    <parent link="R_FOREARM"/>
    <child link="R_UPPER_WRIST_YAW"/>
    <axis xyz="0 0 1.0"/>
    <dynamics damping="25"/>
    <limit effort="100" lower="-3.1" upper="1.35" velocity="3.1415926"/>
  </joint>
  <link name="R_UPPER_WRIST_YAW">
    <inertial>
      <origin rpy="0 0 0" xyz="0 0 0"/>
      <mass value="2.313272"/>
      <inertia ixx="0.03" ixy="0" ixz="0" iyy="0.03" iyz="0" izz="0.03"/>
    </inertial>
    <visual>
      <material name="DarpaGrey"/>
      <origin rpy="0 0 1.57079632679" xyz="0 0 0"/>
      <geometry>
        <mesh filename="package://apollo_robot_model/meshes/lbr5.stl"/>
      </geometry>
    </visual>
    <collision>
      <origin rpy="0 0 1.57079632679" xyz="0 0 0"/>
      <geometry>
        <mesh filename="package://apollo_robot_model/meshes/collision/lbr5_smpl.stl"/>
      </geometry>
    </collision>
  </link>
  <joint name="R_WFE" type="revolute">
    <origin rpy="1.5708 0.0 1.57079632679" xyz="-0.046 0 0.1815"/>
    <parent link="R_UPPER_WRIST_YAW"/>
    <child link="R_UPPER_WRIST_PITCH"/>
    <axis xyz="0 0 1.0"/>
    <dynamics damping="25"/>
    <limit effort="30" lower="-2.09" upper="2.09" velocity="1.9634"/>
  </joint>
  <link name="R_UPPER_WRIST_PITCH">
    <inertial>
      <origin rpy="0 0 0" xyz="0 0 0"/>
      <mass value="2.057856"/>
      <inertia ixx="0.01" ixy="0" ixz="0" iyy="0.01" iyz="0" izz="0.01"/>
    </inertial>
    <visual>
      <material name="DarpaGrey"/>
      <origin rpy="0 0 0" xyz="0 0 0"/>
      <geometry>
        <mesh filename="package://apollo_robot_model/meshes/lbr6.stl"/>
      </geometry>
    </visual>
    <collision>
      <origin rpy="0 0 0" xyz="0 0 0"/>
      <geometry>
        <mesh filename="package://apollo_robot_model/meshes/collision/lbr6_smpl.stl"/>
      </geometry>
    </collision>
  </link>
  <joint name="R_WAA" type="revolute">
    <origin rpy="-1.57079632679 1.57079632679 0" xyz="0 0.057 0.0455"/>
    <parent link="R_UPPER_WRIST_PITCH"/>
    <child link="R_LOWER_WRIST"/>
    <axis xyz="0 0 1.0"/>
    <dynamics damping="25"/>
    <limit effort="30" lower="-2.96" upper="2.96" velocity="1.9634"/>
  </joint>
  <link name="R_LOWER_WRIST">
    <inertial>
      <origin rpy="0 0 0" xyz="0 0 0"/>
      <mass value="1.120198"/>
      <inertia ixx="0.01" ixy="0" ixz="0" iyy="0.01" iyz="0" izz="0.01"/>
    </inertial>
    <visual>
      <material name="DarpaGrey"/>
      <origin rpy="0 0 0" xyz="0 0 0"/>
      <geometry>
        <mesh filename="package://apollo_robot_model/meshes/lbr7.stl"/>
      </geometry>
    </visual>
    <collision>
      <origin rpy="0 0 0" xyz="0 0 0"/>
      <geometry>
        <mesh filename="package://apollo_robot_model/meshes/collision/lbr7_smpl.stl"/>
      </geometry>
    </collision>
  </link>
  <joint name="R_Arm_PalmBlueComponentJoint" type="fixed">
    <parent link="R_LOWER_WRIST"/>
    <child link="R_ARM_PALM"/>
    <origin rpy="0 0 3.14159265359" xyz="0 0 0.03"/>
  </joint>
  <link name="R_ARM_PALM">
    <inertial>
      <origin xyz="0 0 0"/>
      <mass value="0.00000001"/>
      <inertia ixx="0.00000001" ixy="0.00000001" ixz="-0.00000001" iyy="0.00000001" iyz="-0.00000001" izz="0.00000001"/>
    </inertial>
    <visual>
      <material name="DarpaGrey"/>
      <material name="DarpaBlue"/>
      <origin rpy="1.57079632679 0 0" xyz="0 0 0"/>
      <geometry>
        <mesh filename="package://apollo_robot_model/meshes/wamLowerWristFTPalmLink7.stl"/>
      </geometry>
    </visual>
    <collision>
      <origin rpy="1.57079632679 0 0" xyz="0 0 0"/>
      <geometry>
        <mesh filename="package://apollo_robot_model/meshes/collision/wamLowerWristFTPalmLink7_smpl.stl"/>
      </geometry>
    </collision>
  </link>
  <link name="R_PALM"/>
  <link name="R_KUKA_TOOL"/>
  <link name="R_FORCE_TORQUE_SENSOR"/>
  <joint name="R_Arm_ForceTorqueJoint" type="fixed">
    <parent link="R_ARM_PALM"/>
    <child link="R_FORCE_TORQUE_SENSOR"/>
    <origin rpy="0 0 1.57079632679" xyz="0 0 0.0131834"/>
    <!-- 0.0131834 = .0059834 from wrist to f-t + .0072 from ft to sensor origin-->
  </joint>
  <joint name="R_Arm_PalmJoint" type="fixed">
    <parent link="R_ARM_PALM"/>
    <child link="R_PALM"/>
    <origin rpy="0 0 3.14159265359" xyz="0 0 0.1033"/>
  </joint>
  <joint name="R_Arm_ToolJoint" type="fixed">
    <parent link="R_ARM_PALM"/>
    <child link="R_KUKA_TOOL"/>
    <origin rpy="0 0 1.57079632679" xyz="0 0 0"/>
  </joint>
  <gazebo reference="R_0_link">
    <material value="PR2/Red"/>
    <turnGravityOff>false</turnGravityOff>
  </gazebo>
  <gazebo reference="R_1_link">
    <material value="PR2/Blue"/>
    <turnGravityOff>false</turnGravityOff>
  </gazebo>
  <gazebo reference="R_2_link">
    <material value="PR2/Red"/>
    <turnGravityOff>false</turnGravityOff>
  </gazebo>
  <gazebo reference="R_3_link">
    <material value="PR2/Blue"/>
    <turnGravityOff>false</turnGravityOff>
  </gazebo>
  <gazebo reference="R_4_link">
    <material value="PR2/Red"/>
    <turnGravityOff>false</turnGravityOff>
  </gazebo>
  <gazebo reference="R_5_link">
    <material value="PR2/Blue"/>
    <turnGravityOff>false</turnGravityOff>
  </gazebo>
  <gazebo reference="R_6_link">
    <material value="PR2/Red"/>
    <turnGravityOff>false</turnGravityOff>
  </gazebo>
  <gazebo reference="R_7_link">
    <material value="PR2/Blue"/>
    <turnGravityOff>false</turnGravityOff>
  </gazebo>
  <transmission name="R_1_trans" type="pr2_mechanism_model/SimpleTransmission">
    <actuator name="R_1_motor"/>
    <joint name="R_1_joint"/>
    <mechanicalReduction>1</mechanicalReduction>
  </transmission>
  <transmission name="R_2_trans" type="pr2_mechanism_model/SimpleTransmission">
    <actuator name="R_2_motor"/>
    <joint name="R_2_joint"/>
    <mechanicalReduction>1</mechanicalReduction>
  </transmission>
  <transmission name="R_3_trans" type="pr2_mechanism_model/SimpleTransmission">
    <actuator name="R_3_motor"/>
    <joint name="R_3_joint"/>
    <mechanicalReduction>1</mechanicalReduction>
  </transmission>
  <transmission name="R_4_trans" type="pr2_mechanism_model/SimpleTransmission">
    <actuator name="R_4_motor"/>
    <joint name="R_4_joint"/>
    <mechanicalReduction>1</mechanicalReduction>
  </transmission>
  <transmission name="R_5_trans" type="pr2_mechanism_model/SimpleTransmission">
    <actuator name="R_5_motor"/>
    <joint name="R_5_joint"/>
    <mechanicalReduction>1</mechanicalReduction>
  </transmission>
  <transmission name="R_6_trans" type="pr2_mechanism_model/SimpleTransmission">
    <actuator name="R_6_motor"/>
    <joint name="R_6_joint"/>
    <mechanicalReduction>1</mechanicalReduction>
  </transmission>
  <transmission name="R_7_trans" type="pr2_mechanism_model/SimpleTransmission">
    <actuator name="R_7_motor"/>
    <joint name="R_7_joint"/>
    <mechanicalReduction>1</mechanicalReduction>
  </transmission>
  <link name="R_HAND_M_FINGER_KNUCKLE_2">
    <visual>
      <material name="DarpaGrey"/>
      <origin rpy="3.14159265359 1.57079632679 0" xyz="0 0 0"/>
      <geometry>
        <mesh filename="package://apollo_robot_model/meshes/secondFingerLink.stl"/>
      </geometry>
    </visual>
    <inertial>
      <origin xyz=".031720 .001070 -.000586"/>
      <mass value="0.057957"/>
      <inertia ixx="0.00000461" ixy="0.00000003" ixz="0.00000164" iyy="0.00003590" iyz="0.00000004" izz="0.00003682"/>
    </inertial>
    <collision>
      <origin rpy="3.14159265359 1.57079632679 0" xyz="0 0 0"/>
      <geometry>
        <mesh filename="package://apollo_robot_model/meshes/collision/secondFingerLink_smpl.stl"/>
      </geometry>
      <mu1 value="50000.0"/>
      <mu2 value="50000.0"/>
      <kp value="1000000.0"/>
      <kd value="1.0"/>
    </collision>
  </link>
  <gazebo reference="R_HAND_M_FINGER_KNUCKLE_2">
    <material>
                PR2/Grey2
            </material>
    <turnGravityOff>
                true
            </turnGravityOff>
    <selfCollide>
                true
            </selfCollide>
  </gazebo>
  <transmission name="DarmSim_RArm_BHand_FingerMKnuckleTwo_trans" type="pr2_mechanism_model/SimpleTransmission">
    <actuator name="DarmSim_RArm_BHand_FingerMKnuckleTwo_motor"/>
    <joint name="R_Arm_M_Finger_KnuckleTwoJoint"/>
    <mechanicalReduction>1</mechanicalReduction>
    <motorTorqueConstant>1</motorTorqueConstant>
    <pulsesPerRevolution>90000</pulsesPerRevolution>
  </transmission>
  <link name="R_HAND_M_FINGER_KNUCKLE_3">
    <visual>
      <material name="DarpaGrey"/>
      <origin rpy="0 1.57079632679 0" xyz="0 0 0"/>
      <geometry>
        <mesh filename="package://apollo_robot_model/meshes/thirdFingerLink.stl"/>
      </geometry>
    </visual>
    <inertial>
      <origin xyz="0.01970974 0.00182016 0.00020041"/>
      <mass value="0.03421781"/>
      <inertia ixx="0.00000287" ixy="0.00000091" ixz="-0.00000007" iyy="0.00001329" iyz="-0.00000002" izz="0.00001214"/>
    </inertial>
    <collision>
      <origin rpy="0 1.57079632679 0" xyz="0 0 0"/>
      <geometry>
        <mesh filename="package://apollo_robot_model/meshes/collision/thirdFingerLink_smpl.stl"/>
      </geometry>
      <mu1 value="50000.0"/>
      <mu2 value="50000.0"/>
      <kp value="1000000.0"/>
      <kd value="1.0"/>
    </collision>
  </link>
  <gazebo reference="R_HAND_M_FINGER_KNUCKLE_3">
    <material>
                PR2/Grey2
            </material>
    <turnGravityOff>
                true
            </turnGravityOff>
    <selfCollide>
                true
            </selfCollide>
  </gazebo>
  <transmission name="DarmSim_RArm_BHand_FingerMKnuckleThree_trans" type="pr2_mechanism_model/SimpleTransmission">
    <actuator name="DarmSim_RArm_BHand_FingerMKnuckleThree_motor"/>
    <joint name="R_Arm_M_Finger_KnuckleThreeJoint"/>
    <mechanicalReduction>1</mechanicalReduction>
    <motorTorqueConstant>1</motorTorqueConstant>
    <pulsesPerRevolution>90000</pulsesPerRevolution>
  </transmission>
  <link name="R_HAND_M_FINGER_TIP"/>
  <joint name="R_MF" type="revolute">
    <parent link="R_ARM_PALM"/>
    <child link="R_HAND_M_FINGER_KNUCKLE_2"/>
    <origin rpy="-1.57079632679 -0.0429350996 -1.57079632679" xyz="0 -0.05 0.09938"/>
    <axis xyz="0 0 -1"/>
    <limit effort="1" lower="0" upper="2.44" velocity="3.27"/>
    <dynamics damping="0.005" friction="100.0"/>
  </joint>
  <joint name="R_MF2" type="revolute">
    <parent link="R_HAND_M_FINGER_KNUCKLE_2"/>
    <child link="R_HAND_M_FINGER_KNUCKLE_3"/>
    <origin rpy="0 0 0" xyz="0.07 0 0"/>
    <!--<origin xyz="0.07 0 0" rpy="0 0 -0.733038286"/>-->
    <axis xyz="0 0 -1"/>
    <limit effort="1" lower="0.698131700798" upper="1.57079632679" velocity="3.27"/>
    <dynamics damping="0.005" friction="100.0"/>
    <!--<mimic joint="${side}_${number}F" multiplier="1" offset="0"/>-->
  </joint>
  <joint name="R_MF3" type="fixed">
    <parent link="R_HAND_M_FINGER_KNUCKLE_3"/>
    <child link="R_HAND_M_FINGER_TIP"/>
    <origin rpy="0 0 0" xyz="0.056 0 0"/>
  </joint>
  <link name="R_HAND_L_FINGER_KNUCKLE_1">
    <visual>
      <material name="DarpaGrey"/>
      <origin rpy="1.57079632679 0 -1.57079632679" xyz="0 0 0"/>
      <geometry>
        <mesh filename="package://apollo_robot_model/meshes/firstFingerLink.stl"/>
      </geometry>
      <mu1 value="50000.0"/>
      <mu2 value="50000.0"/>
      <kp value="1000000.0"/>
      <kd value="1.0"/>
    </visual>
    <inertial>
      <origin xyz="0.03201666 -0.00086502 0.00890075"/>
      <mass value="0.16252678"/>
      <inertia ixx="0.00002567" ixy="-0.00000146" ixz="0.00001128" iyy="0.00008818" iyz="-0.00000094" izz="0.00007827"/>
    </inertial>
    <collision>
      <origin rpy="1.57079632679 0 -1.57079632679" xyz="0 0 0"/>
      <geometry>
        <mesh filename="package://apollo_robot_model/meshes/collision/firstFingerLink_smpl.stl"/>
      </geometry>
    </collision>
  </link>
  <gazebo reference="R_HAND_L_FINGER_KNUCKLE_1">
    <material>
                PR2/Grey2
            </material>
    <turnGravityOff>
                true
            </turnGravityOff>
    <selfCollide>
                true
            </selfCollide>
  </gazebo>
  <transmission name="DarmSim_RArm_BHand_FingerOneKnuckleOne_trans" type="pr2_mechanism_model/SimpleTransmission">
    <actuator name="DarmSim_RArm_BHand_FingerOneKnuckleOne_motor"/>
    <joint name="R_Arm_FingerOne_KnuckleOneJoint"/>
    <mechanicalReduction>1</mechanicalReduction>
    <motorTorqueConstant>1</motorTorqueConstant>
    <pulsesPerRevolution>90000</pulsesPerRevolution>
  </transmission>
  <link name="R_HAND_L_FINGER_KNUCKLE_2">
    <visual>
      <material name="DarpaGrey"/>
      <origin rpy="3.14159265359 1.57079632679 0" xyz="0 0 0"/>
      <geometry>
        <mesh filename="package://apollo_robot_model/meshes/secondFingerLink.stl"/>
      </geometry>
    </visual>
    <inertial>
      <origin xyz=".031720 .001070 -.000586"/>
      <mass value="0.057957"/>
      <inertia ixx="0.00000461" ixy="0.00000003" ixz="0.00000164" iyy="0.00003590" iyz="0.00000004" izz="0.00003682"/>
    </inertial>
    <collision>
      <origin rpy="3.14159265359 1.57079632679 0" xyz="0 0 0"/>
      <geometry>
        <mesh filename="package://apollo_robot_model/meshes/collision/secondFingerLink_smpl.stl"/>
      </geometry>
      <mu1 value="50000.0"/>
      <mu2 value="50000.0"/>
      <kp value="1000000.0"/>
      <kd value="1.0"/>
    </collision>
  </link>
  <gazebo reference="R_HAND_L_FINGER_KNUCKLE_2">
    <material>
                PR2/Grey2
            </material>
    <turnGravityOff>
                true
            </turnGravityOff>
    <selfCollide>
                true
            </selfCollide>
  </gazebo>
  <transmission name="DarmSim_RArm_BHand_FingerLKnuckleTwo_trans" type="pr2_mechanism_model/SimpleTransmission">
    <actuator name="DarmSim_RArm_BHand_FingerLKnuckleTwo_motor"/>
    <joint name="R_Arm_L_Finger_KnuckleTwoJoint"/>
    <mechanicalReduction>1</mechanicalReduction>
    <motorTorqueConstant>1</motorTorqueConstant>
    <pulsesPerRevolution>90000</pulsesPerRevolution>
  </transmission>
  <link name="R_HAND_L_FINGER_KNUCKLE_3">
    <visual>
      <material name="DarpaGrey"/>
      <origin rpy="0 1.57079632679 0" xyz="0 0 0"/>
      <geometry>
        <mesh filename="package://apollo_robot_model/meshes/thirdFingerLink.stl"/>
      </geometry>
    </visual>
    <inertial>
      <origin xyz="0.01970974 0.00182016 0.00020041"/>
      <mass value="0.03421781"/>
      <inertia ixx="0.00000287" ixy="0.00000091" ixz="-0.00000007" iyy="0.00001329" iyz="-0.00000002" izz="0.00001214"/>
    </inertial>
    <collision>
      <origin rpy="0 1.57079632679 0" xyz="0 0 0"/>
      <geometry>
        <mesh filename="package://apollo_robot_model/meshes/collision/thirdFingerLink_smpl.stl"/>
      </geometry>
      <mu1 value="50000.0"/>
      <mu2 value="50000.0"/>
      <kp value="1000000.0"/>
      <kd value="1.0"/>
    </collision>
  </link>
  <gazebo reference="R_HAND_L_FINGER_KNUCKLE_3">
    <material>
                PR2/Grey2
            </material>
    <turnGravityOff>
                true
            </turnGravityOff>
    <selfCollide>
                true
            </selfCollide>
  </gazebo>
  <transmission name="DarmSim_RArm_BHand_FingerLKnuckleThree_trans" type="pr2_mechanism_model/SimpleTransmission">
    <actuator name="DarmSim_RArm_BHand_FingerLKnuckleThree_motor"/>
    <joint name="R_Arm_L_Finger_KnuckleThreeJoint"/>
    <mechanicalReduction>1</mechanicalReduction>
    <motorTorqueConstant>1</motorTorqueConstant>
    <pulsesPerRevolution>90000</pulsesPerRevolution>
  </transmission>
  <link name="R_HAND_L_FINGER_TIP"/>
  <joint name="R_LF" type="revolute">
    <parent link="R_HAND_L_FINGER_KNUCKLE_1"/>
    <child link="R_HAND_L_FINGER_KNUCKLE_2"/>
    <origin rpy="-1.57079632679 -0.0429350996 0" xyz=".05 0 0.02140"/>
    <axis xyz="0 0 -1"/>
    <limit effort="1" lower="0" upper="2.44" velocity="3.27"/>
    <dynamics damping="0.005" friction="100.0"/>
  </joint>
  <joint name="R_LF2" type="revolute">
    <parent link="R_HAND_L_FINGER_KNUCKLE_2"/>
    <child link="R_HAND_L_FINGER_KNUCKLE_3"/>
    <origin rpy="0 0 0" xyz="0.07 0 0"/>
    <!--<origin xyz="0.07 0 0" rpy="0 0 -0.733038286"/>-->
    <axis xyz="0 0 -1"/>
    <limit effort="1" lower="0.698131700798" upper="1.57079632679" velocity="3.27"/>
    <dynamics damping="0.005" friction="100.0"/>
    <!--<mimic joint="${side}_${number}F" multiplier="1" offset="0"/>-->
  </joint>
  <joint name="R_LF3" type="fixed">
    <parent link="R_HAND_L_FINGER_KNUCKLE_3"/>
    <child link="R_HAND_L_FINGER_TIP"/>
    <origin rpy="0 0 0" xyz="0.056 0 0"/>
  </joint>
  <link name="R_HAND_R_FINGER_KNUCKLE_1">
    <visual>
      <material name="DarpaGrey"/>
      <origin rpy="1.57079632679 0 -1.57079632679" xyz="0 0 0"/>
      <geometry>
        <mesh filename="package://apollo_robot_model/meshes/firstFingerLink.stl"/>
      </geometry>
    </visual>
    <inertial>
      <origin xyz="0.03201666 -0.00086502 0.00890075"/>
      <mass value="0.16252678"/>
      <inertia ixx="0.00002567" ixy="-0.00000146" ixz="0.00001128" iyy="0.00008818" iyz="-0.00000094" izz="0.00007827"/>
    </inertial>
    <collision>
      <origin rpy="1.57079632679 0 -1.57079632679" xyz="0 0 0"/>
      <geometry>
        <mesh filename="package://apollo_robot_model/meshes/collision/firstFingerLink_smpl.stl"/>
      </geometry>
    </collision>
  </link>
  <gazebo reference="R_HAND_R_FINGER_KNUCKLE_1">
    <material>
                PR2/Grey2
            </material>
    <turnGravityOff>
                true
            </turnGravityOff>
    <selfCollide>
                true
            </selfCollide>
  </gazebo>
  <transmission name="DarmSim_RArm_BHand_FingerTwoKnuckleOne_trans" type="pr2_mechanism_model/SimpleTransmission">
    <actuator name="DarmSim_RArm_BHand_FingerTwoKnuckleOne_motor"/>
    <joint name="R_Arm_FingerTwo_KnuckleOneJoint"/>
    <mechanicalReduction>1</mechanicalReduction>
    <motorTorqueConstant>1</motorTorqueConstant>
    <pulsesPerRevolution>90000</pulsesPerRevolution>
  </transmission>
  <link name="R_HAND_R_FINGER_KNUCKLE_2">
    <visual>
      <material name="DarpaGrey"/>
      <origin rpy="3.14159265359 1.57079632679 0" xyz="0 0 0"/>
      <geometry>
        <mesh filename="package://apollo_robot_model/meshes/secondFingerLink.stl"/>
      </geometry>
    </visual>
    <inertial>
      <origin xyz=".031720 .001070 -.000586"/>
      <mass value="0.057957"/>
      <inertia ixx="0.00000461" ixy="0.00000003" ixz="0.00000164" iyy="0.00003590" iyz="0.00000004" izz="0.00003682"/>
    </inertial>
    <collision>
      <origin rpy="3.14159265359 1.57079632679 0" xyz="0 0 0"/>
      <geometry>
        <mesh filename="package://apollo_robot_model/meshes/collision/secondFingerLink_smpl.stl"/>
      </geometry>
      <mu1 value="50000.0"/>
      <mu2 value="50000.0"/>
      <kp value="1000000.0"/>
      <kd value="1.0"/>
    </collision>
  </link>
  <gazebo reference="R_HAND_R_FINGER_KNUCKLE_2">
    <material>
                PR2/Grey2
            </material>
    <turnGravityOff>
                true
            </turnGravityOff>
    <selfCollide>
                true
            </selfCollide>
  </gazebo>
  <transmission name="DarmSim_RArm_BHand_FingerRKnuckleTwo_trans" type="pr2_mechanism_model/SimpleTransmission">
    <actuator name="DarmSim_RArm_BHand_FingerRKnuckleTwo_motor"/>
    <joint name="R_Arm_R_Finger_KnuckleTwoJoint"/>
    <mechanicalReduction>1</mechanicalReduction>
    <motorTorqueConstant>1</motorTorqueConstant>
    <pulsesPerRevolution>90000</pulsesPerRevolution>
  </transmission>
  <link name="R_HAND_R_FINGER_KNUCKLE_3">
    <visual>
      <material name="DarpaGrey"/>
      <origin rpy="0 1.57079632679 0" xyz="0 0 0"/>
      <geometry>
        <mesh filename="package://apollo_robot_model/meshes/thirdFingerLink.stl"/>
      </geometry>
    </visual>
    <inertial>
      <origin xyz="0.01970974 0.00182016 0.00020041"/>
      <mass value="0.03421781"/>
      <inertia ixx="0.00000287" ixy="0.00000091" ixz="-0.00000007" iyy="0.00001329" iyz="-0.00000002" izz="0.00001214"/>
    </inertial>
    <collision>
      <origin rpy="0 1.57079632679 0" xyz="0 0 0"/>
      <geometry>
        <mesh filename="package://apollo_robot_model/meshes/collision/thirdFingerLink_smpl.stl"/>
      </geometry>
      <mu1 value="50000.0"/>
      <mu2 value="50000.0"/>
      <kp value="1000000.0"/>
      <kd value="1.0"/>
    </collision>
  </link>
  <gazebo reference="R_HAND_R_FINGER_KNUCKLE_3">
    <material>
                PR2/Grey2
            </material>
    <turnGravityOff>
                true
            </turnGravityOff>
    <selfCollide>
                true
            </selfCollide>
  </gazebo>
  <transmission name="DarmSim_RArm_BHand_FingerRKnuckleThree_trans" type="pr2_mechanism_model/SimpleTransmission">
    <actuator name="DarmSim_RArm_BHand_FingerRKnuckleThree_motor"/>
    <joint name="R_Arm_R_Finger_KnuckleThreeJoint"/>
    <mechanicalReduction>1</mechanicalReduction>
    <motorTorqueConstant>1</motorTorqueConstant>
    <pulsesPerRevolution>90000</pulsesPerRevolution>
  </transmission>
  <link name="R_HAND_R_FINGER_TIP"/>
  <joint name="R_RF" type="revolute">
    <parent link="R_HAND_R_FINGER_KNUCKLE_1"/>
    <child link="R_HAND_R_FINGER_KNUCKLE_2"/>
    <origin rpy="-1.57079632679 -0.0429350996 0" xyz=".05 0 0.02140"/>
    <axis xyz="0 0 -1"/>
    <limit effort="1" lower="0" upper="2.44" velocity="3.27"/>
    <dynamics damping="0.005" friction="100.0"/>
  </joint>
  <joint name="R_RF2" type="revolute">
    <parent link="R_HAND_R_FINGER_KNUCKLE_2"/>
    <child link="R_HAND_R_FINGER_KNUCKLE_3"/>
    <origin rpy="0 0 0" xyz="0.07 0 0"/>
    <!--<origin xyz="0.07 0 0" rpy="0 0 -0.733038286"/>-->
    <axis xyz="0 0 -1"/>
    <limit effort="1" lower="0.698131700798" upper="1.57079632679" velocity="3.27"/>
    <dynamics damping="0.005" friction="100.0"/>
    <!--<mimic joint="${side}_${number}F" multiplier="1" offset="0"/>-->
  </joint>
  <joint name="R_RF3" type="fixed">
    <parent link="R_HAND_R_FINGER_KNUCKLE_3"/>
    <child link="R_HAND_R_FINGER_TIP"/>
    <origin rpy="0 0 0" xyz="0.056 0 0"/>
  </joint>
  <joint name="R_FR" type="revolute">
    <parent link="R_ARM_PALM"/>
    <child link="R_HAND_L_FINGER_KNUCKLE_1"/>
    <origin rpy="0 0 1.57079632679" xyz=".02497 0 0.07798"/>
    <axis xyz="0 0 -1"/>
    <limit effort="1" lower="0" upper="3.14159265359" velocity="3.27"/>
    <dynamics damping="0.005" friction="100.0"/>
  </joint>
  <joint name="R_FR2" type="revolute">
    <parent link="R_ARM_PALM"/>
    <child link="R_HAND_R_FINGER_KNUCKLE_1"/>
    <origin rpy="0 0 1.57079632679" xyz="-.02497 0 0.07798"/>
    <axis xyz="0 0 1"/>
    <limit effort="1" lower="0" upper="3.14159265359" velocity="3.27"/>
    <dynamics damping="0.005" friction="100.0"/>
    <mimic joint="R_FR" multiplier="1" offset="0"/>
  </joint>
  <!-- Adding Apollo's Head-->
  <joint name="B_STAND_MOTORS" type="fixed">
    <origin rpy="0 0 0" xyz="0 0.15 -0.25"/>
    <parent link="BASE"/>
    <child link="B_MOTORS"/>
  </joint>
  <link name="B_MOTORS">
    <visual>
      <material name="DarpaGrey"/>
      <origin rpy="0 0 0" xyz="0.0 0.05 -0.06"/>
      <geometry>
        <box size="0.2 0.15 0.12 "/>
      </geometry>
    </visual>
    <collision>
      <origin rpy="0 0 0" xyz="0.0 0.05 -0.06"/>
      <geometry>
        <box size="0.2 0.15 0.12 "/>
      </geometry>
    </collision>
  </link>
  <joint name="B_MOTORS_neck" type="fixed">
    <origin rpy="0 0 0" xyz="0 0 0"/>
    <parent link="B_MOTORS"/>
    <child link="B_CERVICALS"/>
  </joint>
  <link name="B_CERVICALS">
    <visual>
      <material name="DarpaGrey"/>
      <origin rpy="0 0 0" xyz="0 0 0.19685"/>
      <geometry>
        <cylinder length="0.3937" radius="0.03"/>
      </geometry>
    </visual>
    <collision>
      <origin rpy="0 0 0" xyz="0 0 0.19685"/>
      <geometry>
        <cylinder length="0.3937" radius="0.03"/>
      </geometry>
    </collision>
  </link>
  <joint name="B_NECK" type="fixed">
    <origin rpy="-1.57079632679 0 1.57079632679" xyz="0.0 0.15 0.1437"/>
    <parent link="BASE"/>
    <child link="B_NECK"/>
  </joint>
  <link name="B_NECK"/>
  <joint name="B_HN" type="revolute">
    <parent link="B_NECK"/>
    <child link="B_CERVICAL1"/>
    <origin rpy="0 0 0" xyz="0 0 0"/>
    <axis xyz="0 0 1"/>
    <dynamics damping="25"/>
    <limit effort="200" lower="-0.522812" upper="0.525297" velocity="1.9634"/>
  </joint>
  <link name="B_CERVICAL1"/>
  <joint name="B_HT" type="revolute">
    <parent link="B_CERVICAL1"/>
    <child link="B_CERVICAL2"/>
    <origin rpy="0 1.57079632679 0" xyz="0 0 0"/>
    <axis xyz="0 0 1"/>
    <dynamics damping="25"/>
    <limit effort="200" lower="-0.283485" upper="0.342839" velocity="1.9634"/>
  </joint>
  <link name="B_CERVICAL2"/>
  <joint name="B_HR" type="revolute">
    <parent link="B_CERVICAL2"/>
    <child link="B_HEAD"/>
    <origin rpy="-1.57079632679 0 0" xyz="0 0 0"/>
    <axis xyz="0 0 1"/>
    <dynamics damping="25"/>
    <limit effort="200" lower="-1.013835" upper="0.892918" velocity="1.9634"/>
  </joint>
  <link name="B_HEAD">
    <inertial>
      <origin rpy="0 0 0" xyz="0 0 0"/>
      <mass value="1.0"/>
      <inertia ixx="0.01" ixy="0" ixz="0" iyy="0.01" iyz="0" izz="0.01"/>
    </inertial>
    <visual>
      <material name="DarpaGrey"/>
      <origin rpy="-1.57079632679 0 0" xyz="-0.035 -0.065 -0.08"/>
      <geometry>
        <mesh filename="package://apollo_robot_model/meshes/humanoidHead.stl"/>
      </geometry>
    </visual>
    <collision>
      <origin rpy="-1.57079632679 0 0" xyz="-0.035 -0.065 -0.08"/>
      <geometry>
        <mesh filename="package://apollo_robot_model/meshes/collision/humanoidHead_smpl.stl"/>
      </geometry>
    </collision>
  </link>
  <joint name="R_EP" type="revolute">
    <parent link="B_HEAD"/>
    <child link="R_PAN_UNIT"/>
    <origin rpy="0 0 0" xyz="0.0366 -0.0674 -0.1356"/>
    <axis xyz="0 0 1"/>
    <dynamics damping="25"/>
    <limit effort="200" lower="-0.547836" upper="0.677454" velocity="1.9634"/>
  </joint>
  <link name="R_PAN_UNIT"/>
  <joint name="R_ET" type="revolute">
    <parent link="R_PAN_UNIT"/>
    <child link="R_EYE"/>
    <origin rpy="0 -1.57079632679 0" xyz="0 0 0"/>
    <axis xyz="0 0 1"/>
    <dynamics damping="25"/>
    <limit effort="200" lower="-0.584609" upper="0.667224" velocity="1.9634"/>
  </joint>
  <link name="R_EYE">
    <inertial>
      <origin rpy="0 0 0" xyz="0 0 0"/>
      <mass value="1.0"/>
      <inertia ixx="0.01" ixy="0" ixz="0" iyy="0.01" iyz="0" izz="0.01"/>
    </inertial>
    <visual>
      <material name="DarpaGrey"/>
      <origin rpy="0 1.57079632679 1.57079632679" xyz="0.0545 0 0.072"/>
      <geometry>
        <mesh filename="package://apollo_robot_model/meshes/humanoidHeadRightEye.stl"/>
      </geometry>
    </visual>
    <!--
      <collision>
	<origin xyz="0.0545 0 0.072" rpy="0 ${PI/2.0} ${PI/2.0}"/>
	<geometry>
	  <mesh filename="package://apollo_robot_model/meshes/collision/humanoidHeadRightEye.stl" />
	</geometry>
      </collision>
      -->
  </link>
  <joint name="R_E_UPPER" type="fixed">
    <parent link="R_EYE"/>
    <child link="R_EYE_UPPER"/>
    <origin rpy="0 0 0" xyz="0 -0.023 0"/>
  </joint>
  <link name="R_EYE_UPPER">
    <inertial>
      <origin rpy="0 0 0" xyz="0 0 0"/>
      <mass value="1.0"/>
      <inertia ixx="0.01" ixy="0" ixz="0" iyy="0.01" iyz="0" izz="0.01"/>
    </inertial>
    <visual>
      <material name="DarpaGrey"/>
      <origin rpy="0 1.57079632679 1.57079632679" xyz="0 0 0"/>
      <geometry>
        <cylinder length="0.001" radius="0.007"/>
      </geometry>
    </visual>
  </link>
  <joint name="R_E_LOWER" type="fixed">
    <parent link="R_EYE"/>
    <child link="R_EYE_LOWER"/>
    <origin rpy="0 0 0" xyz="0.017 -0.021 0"/>
  </joint>
  <link name="R_EYE_LOWER">
    <inertial>
      <origin rpy="0 0 0" xyz="0 0 0"/>
      <mass value="1.0"/>
      <inertia ixx="0.01" ixy="0" ixz="0" iyy="0.01" iyz="0" izz="0.01"/>
    </inertial>
    <visual>
      <material name="DarpaGrey"/>
      <origin rpy="0 1.57079632679 1.57079632679" xyz="0 0 0"/>
      <geometry>
        <cylinder length="0.01" radius="0.006"/>
      </geometry>
    </visual>
  </link>
  <joint name="L_EP" type="revolute">
    <parent link="B_HEAD"/>
    <child link="L_PAN_UNIT"/>
    <origin rpy="0 0 0" xyz="-0.0366 -0.0674 -0.1356"/>
    <axis xyz="0 0 1"/>
    <dynamics damping="25"/>
    <limit effort="200" lower="-0.557414" upper="0.697715" velocity="1.9634"/>
  </joint>
  <link name="L_PAN_UNIT"/>
  <joint name="L_ET" type="revolute">
    <parent link="L_PAN_UNIT"/>
    <child link="L_EYE"/>
    <origin rpy="0 -1.57079632679 0" xyz="0 0 0"/>
    <axis xyz="0 0 1"/>
    <dynamics damping="25"/>
    <limit effort="200" lower="-0.574821" upper="0.626982" velocity="1.9634"/>
  </joint>
  <link name="L_EYE">
    <inertial>
      <origin rpy="0 0 0" xyz="0 0 0"/>
      <mass value="1.0"/>
      <inertia ixx="0.01" ixy="0" ixz="0" iyy="0.01" iyz="0" izz="0.01"/>
    </inertial>
    <visual>
      <material name="DarpaGrey"/>
      <origin rpy="0 1.57079632679 1.57079632679" xyz="0.0545 0 0.072"/>
      <geometry>
        <mesh filename="package://apollo_robot_model/meshes/humanoidHeadRightEye.stl"/>
      </geometry>
    </visual>
    <!--
      <collision>
	<origin xyz="0.0545 0 0.072" rpy="0 ${PI/2.0} ${PI/2.0}"/>
	<geometry>
	  <mesh filename="package://apollo_robot_model/meshes/collision/humanoidHeadRightEye.stl" />
	</geometry>
      </collision>
      -->
  </link>
  <joint name="L_E_UPPER" type="fixed">
    <parent link="L_EYE"/>
    <child link="L_EYE_UPPER"/>
    <origin rpy="0 0 0" xyz="0 -0.023 0"/>
  </joint>
  <link name="L_EYE_UPPER">
    <inertial>
      <origin rpy="0 0 0" xyz="0 0 0"/>
      <mass value="1.0"/>
      <inertia ixx="0.01" ixy="0" ixz="0" iyy="0.01" iyz="0" izz="0.01"/>
    </inertial>
    <visual>
      <material name="DarpaGrey"/>
      <origin rpy="0 1.57079632679 1.57079632679" xyz="0 0 0"/>
      <geometry>
        <cylinder length="0.001" radius="0.007"/>
      </geometry>
    </visual>
  </link>
  <joint name="L_E_LOWER" type="fixed">
    <parent link="L_EYE"/>
    <child link="L_EYE_LOWER"/>
    <origin rpy="0 0 0" xyz="0.017 -0.021 0"/>
  </joint>
  <link name="L_EYE_LOWER">
    <inertial>
      <origin rpy="0 0 0" xyz="0 0 0"/>
      <mass value="1.0"/>
      <inertia ixx="0.01" ixy="0" ixz="0" iyy="0.01" iyz="0" izz="0.01"/>
    </inertial>
    <visual>
      <material name="DarpaGrey"/>
      <origin rpy="0 1.57079632679 1.57079632679" xyz="0 0 0"/>
      <geometry>
        <cylinder length="0.01" radius="0.006"/>
      </geometry>
    </visual>
  </link>
</robot>
